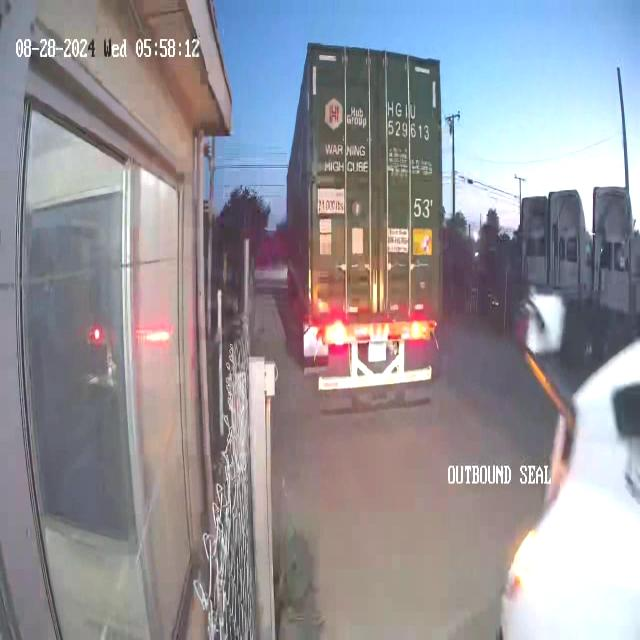CONTAINER: (285, 40, 442, 344)
